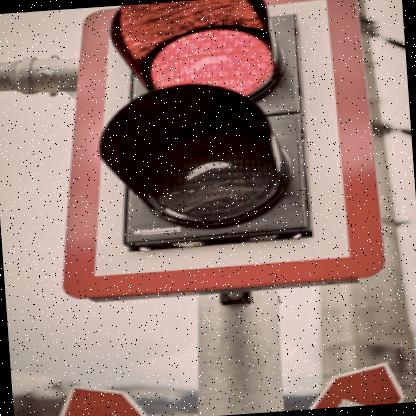trafficlight: (46, 0, 388, 304)
